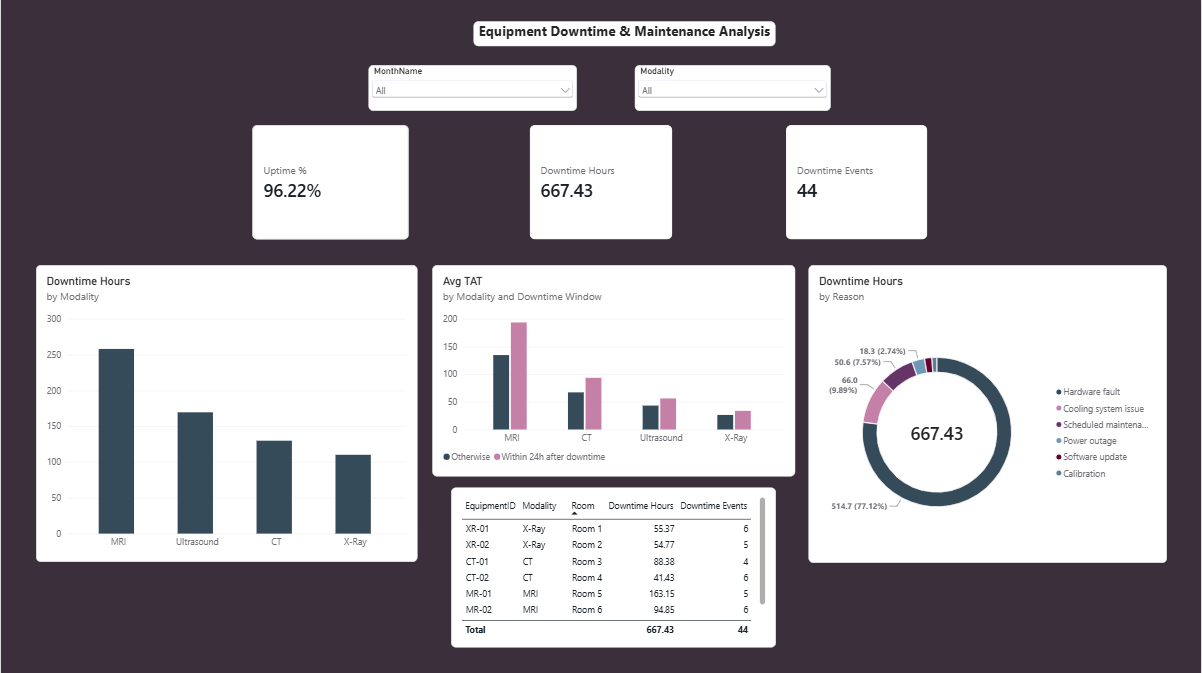

What the dashboard file says about the page in this screenshot:
{"tool":"powerbi","page":{"name":"Downtime Impact","canvas":[1920,1080],"ordinal":1},"visuals":[{"type":"textbox","box":[755,33.3,483.3,40],"z":0},{"type":"slicer","fields":{"Values":["Dim_Date.MonthName"]},"box":[588.3,103.3,333.3,73.3],"z":1000},{"type":"slicer","fields":{"Values":["Dim_Equipment.Modality"]},"box":[1013.3,103.3,313.3,73.3],"z":2000},{"type":"cardVisual","fields":{"Data":["Fact_Downtime.Downtime Hours"]},"box":[845,200,228.3,183.3],"z":3000},{"type":"cardVisual","fields":{"Data":["Fact_Downtime.Downtime Events"]},"box":[1255,200,226.7,183.3],"z":4000},{"type":"clusteredColumnChart","fields":{"Category":["Dim_Equipment.Modality"],"Y":["Fact_Downtime.Downtime Hours"]},"box":[55,423.3,610,475],"z":5000},{"type":"donutChart","fields":{"Category":["Fact_Downtime.Reason"],"Y":["Fact_Downtime.Downtime Hours"]},"box":[1291.7,423.3,573.3,476.7],"z":6000},{"type":"tableEx","fields":{"Values":["Dim_Equipment.EquipmentID","Dim_Equipment.Modality","Dim_Equipment.Room","Fact_Downtime.Downtime Hours","Fact_Downtime.Downtime Events"]},"box":[720,780,520,256],"z":7000},{"type":"cardVisual","fields":{"Data":["DQ_Log.Uptime %"]},"box":[401.7,200,250,183.3],"z":8000},{"type":"clusteredColumnChart","fields":{"Category":["Dim_Equipment.Modality"],"Series":["Fact_Studies.Downtime Window"],"Y":["Fact_Studies.Avg TAT"]},"box":[690,424,580.9,338.4],"z":8001}]}

Visuals, with their boxes in screenshot pixels (x1, y1, x2, y2), scaled from the page's 1920x1080 canvas onto the 1202x673 screenshot:
textbox: [473, 21, 775, 46]
slicer - Dim_Date.MonthName: [368, 64, 577, 110]
slicer - Dim_Equipment.Modality: [634, 64, 831, 110]
cardVisual - Fact_Downtime.Downtime Hours: [529, 125, 672, 239]
cardVisual - Fact_Downtime.Downtime Events: [786, 125, 928, 239]
clusteredColumnChart - Dim_Equipment.Modality x Fact_Downtime.Downtime Hours: [34, 264, 416, 560]
donutChart - Fact_Downtime.Reason x Fact_Downtime.Downtime Hours: [809, 264, 1168, 561]
tableEx - Dim_Equipment.EquipmentID x Dim_Equipment.Modality: [451, 486, 776, 646]
cardVisual - DQ_Log.Uptime %: [251, 125, 408, 239]
clusteredColumnChart - Dim_Equipment.Modality x Fact_Studies.Downtime Window: [432, 264, 796, 475]
